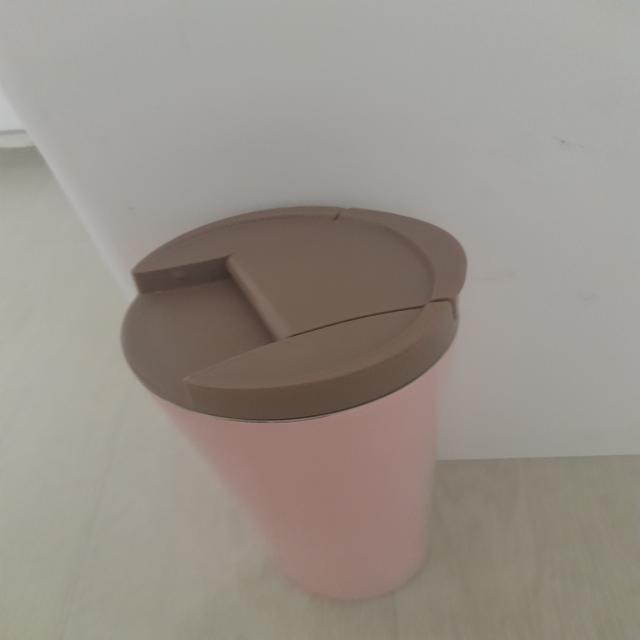waterbottle: (116, 207, 468, 597)
